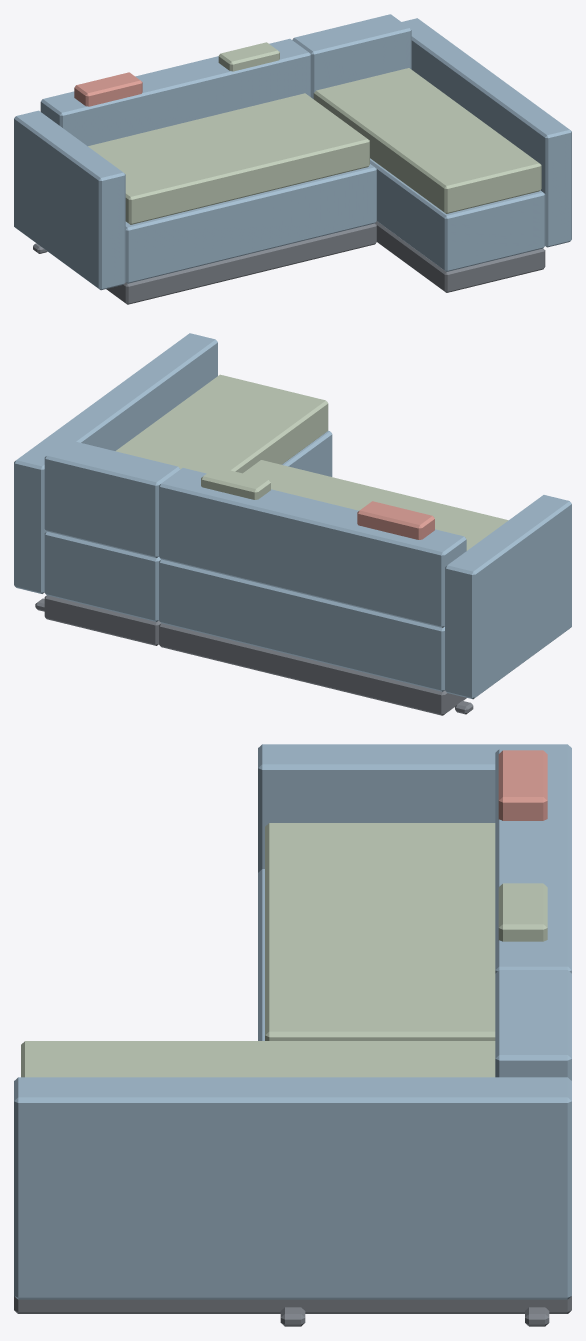
The model's file is ChaiseStorageSofa.glb.
The picture shows the model from 3 angles, top to bottom: view 1: azimuth 30°, elevation 25°; view 2: azimuth 150°, elevation 25°; view 3: azimuth 270°, elevation 25°; orthographic projection. The views are drawn at different scales.
Visible parts, largest first — view 1: ChaiseStorageSofa_Body, ChaiseStorageSofa_Lid; view 2: ChaiseStorageSofa_Body, ChaiseStorageSofa_Lid; view 3: ChaiseStorageSofa_Body, ChaiseStorageSofa_Lid.
Part boxes in pixels (bbox=[...]): ChaiseStorageSofa_Body: bbox=[14, 14, 571, 304]; ChaiseStorageSofa_Lid: bbox=[313, 68, 541, 213]; ChaiseStorageSofa_Body: bbox=[14, 333, 571, 715]; ChaiseStorageSofa_Lid: bbox=[115, 374, 328, 473]; ChaiseStorageSofa_Body: bbox=[14, 744, 571, 1326]; ChaiseStorageSofa_Lid: bbox=[21, 1041, 495, 1077].
Bounding box in the file's own units: 2.42 × 0.89 × 1.6.
